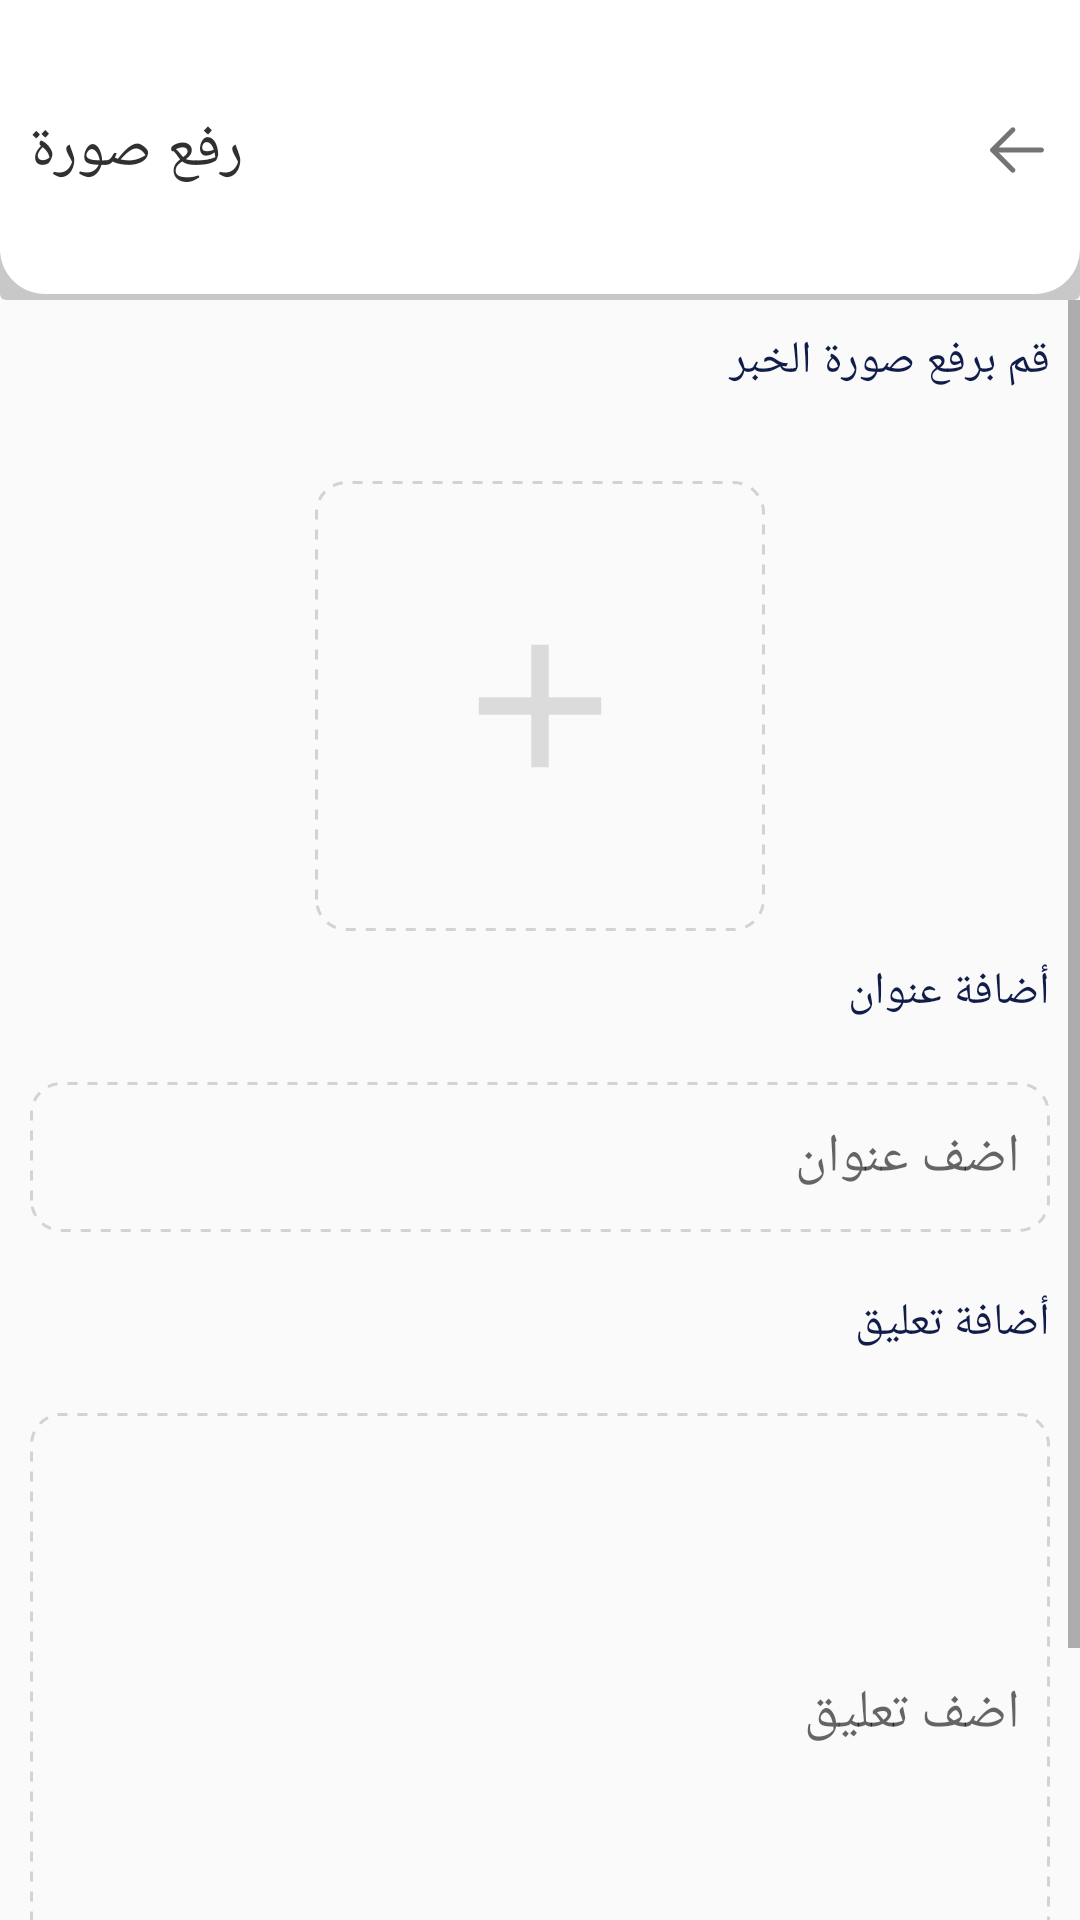

Icon click points for this 1080w x 1920h phone screenshot, format point (x, y):
add: point (540, 706)
back ion: point (1017, 150)
